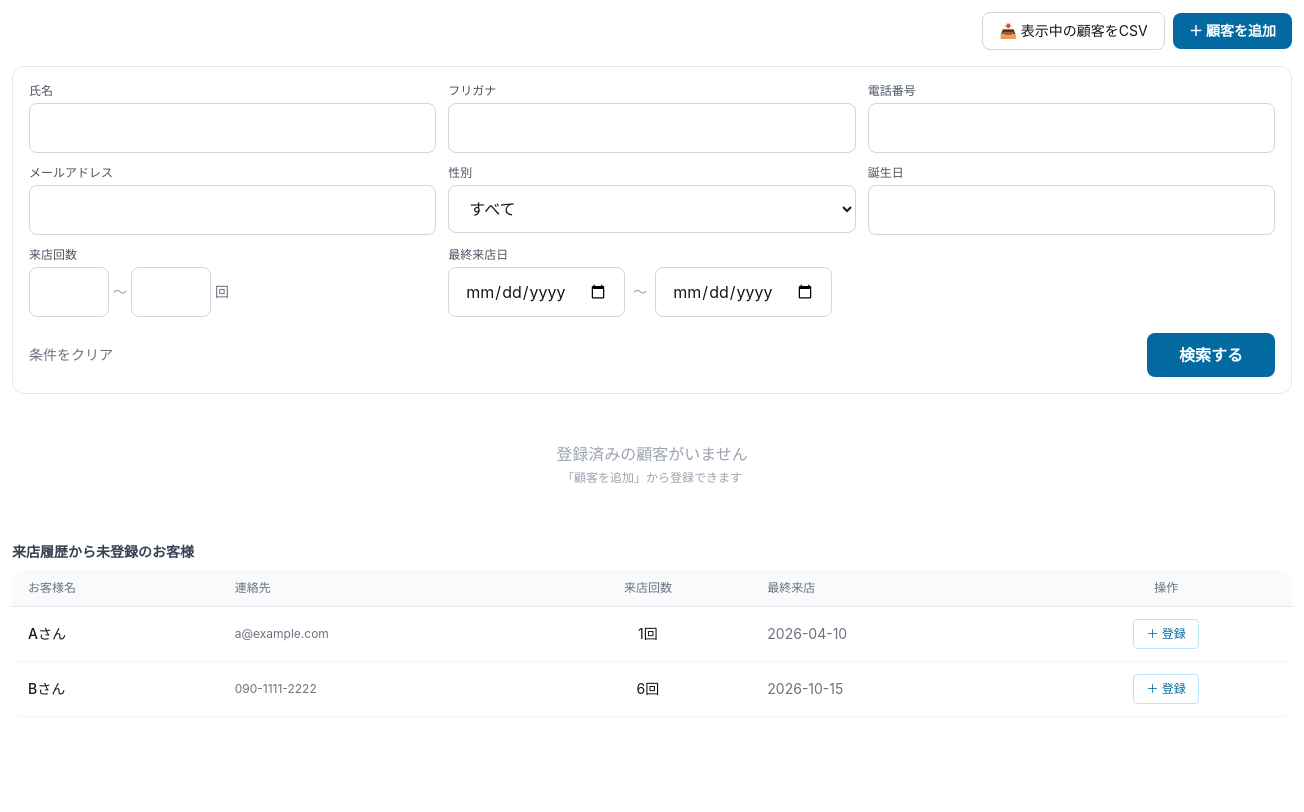
電話番号の条件も未登録のお客様に効く
This screenshot has width=1304, height=812.
In the field named "電話番号": [1071, 128] box x1=868 y1=103 x2=1275 y2=153, type "1111"
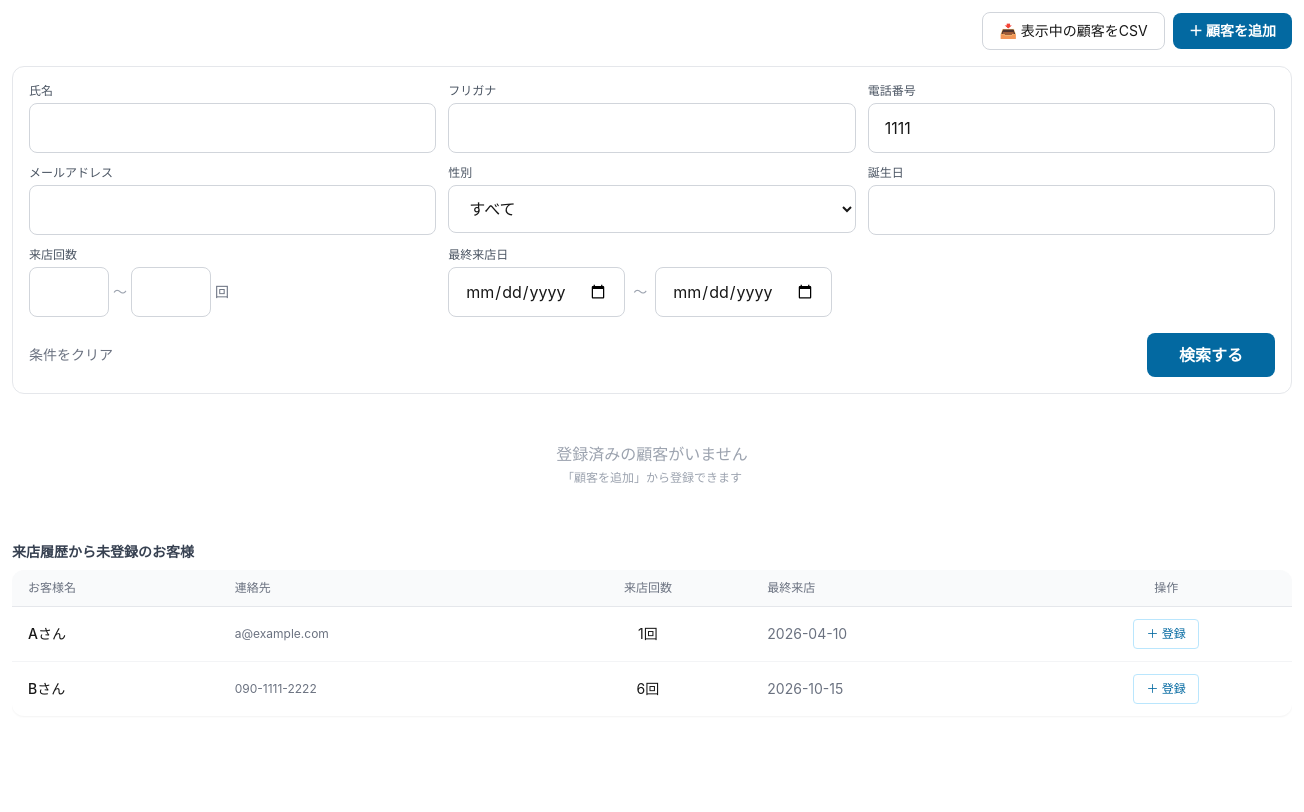
Click the button "検索する": [1211, 355] box x1=1147 y1=333 x2=1275 y2=377
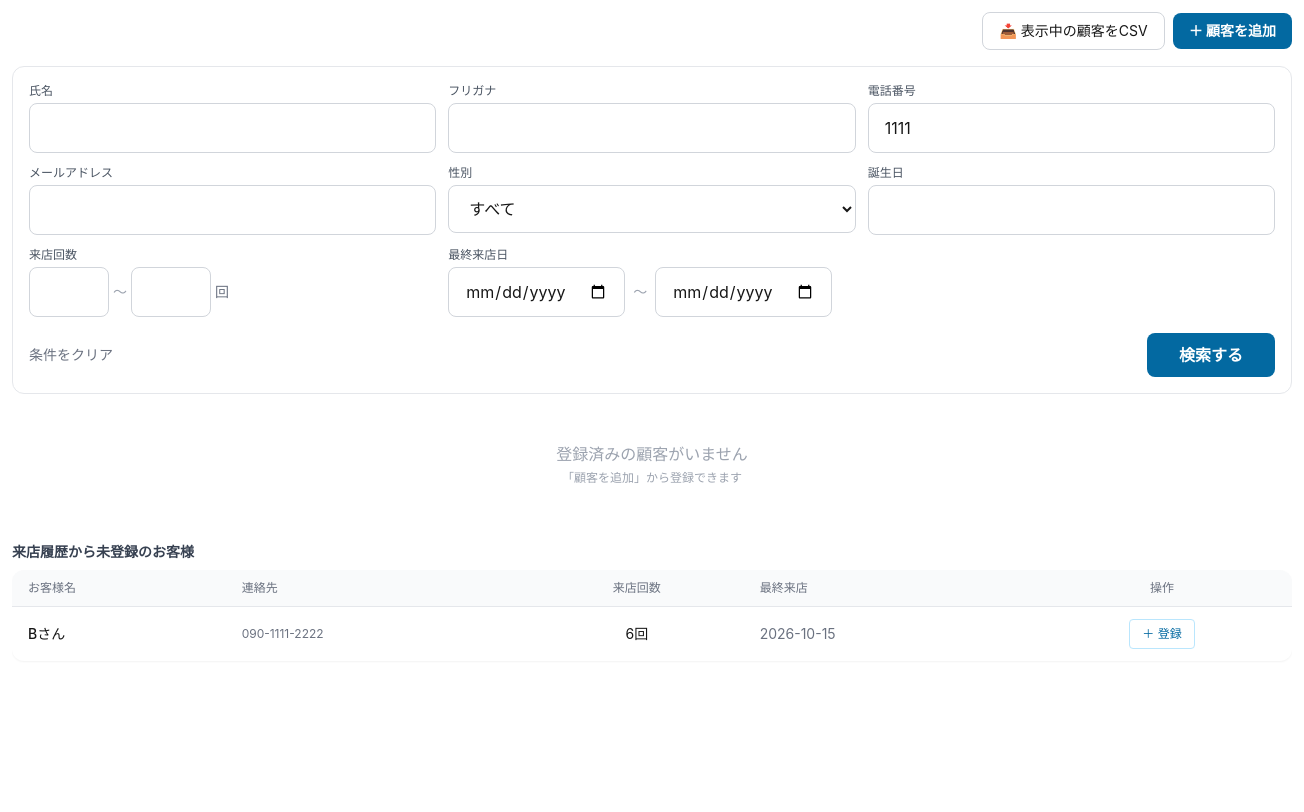
Expected: the text "Bさん" is shown, x1=12 y1=606 x2=226 y2=661
Expected: the text "Aさん" is gone
